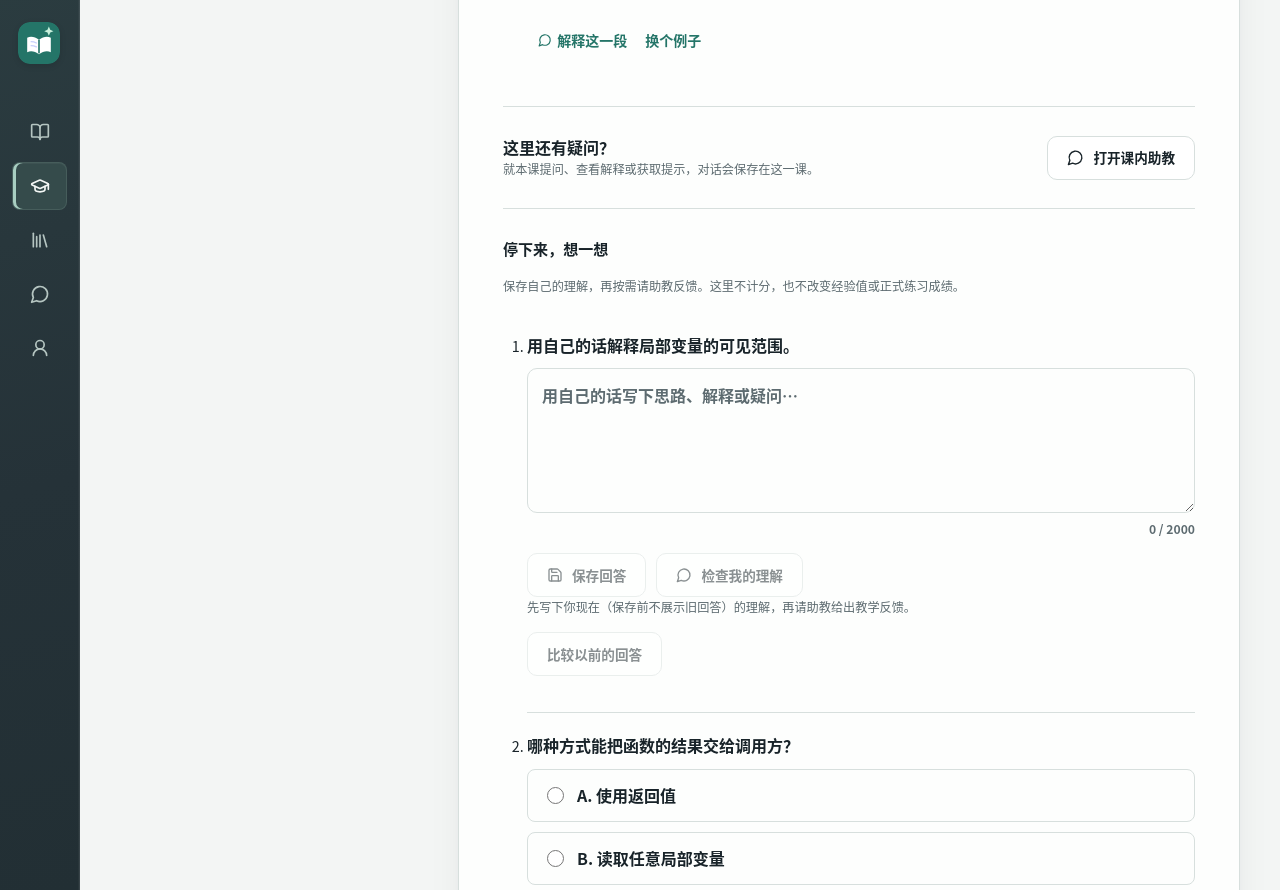
Test: saved self checks and teaching feedback › confirms a lost save response only from a new matching record
(page scrolled)
Type "局部变量只在定义它的函数里可见。" into the text box named "填写你的理解".
click(861, 441); type("局部变量只在定义它的函数里可见。")  # box [527, 368, 1195, 513]
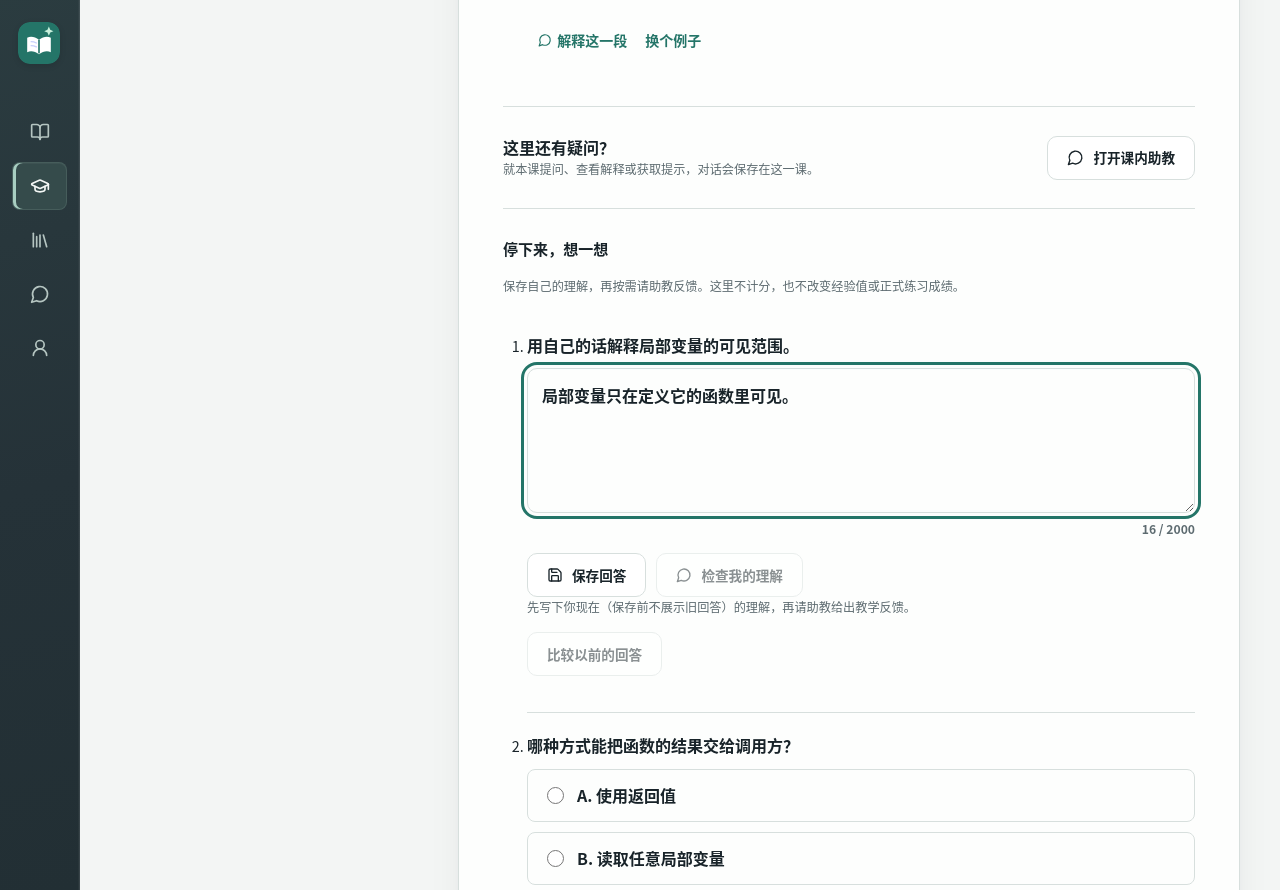
Click the button "保存回答".
click(587, 576)  # box [527, 554, 646, 598]
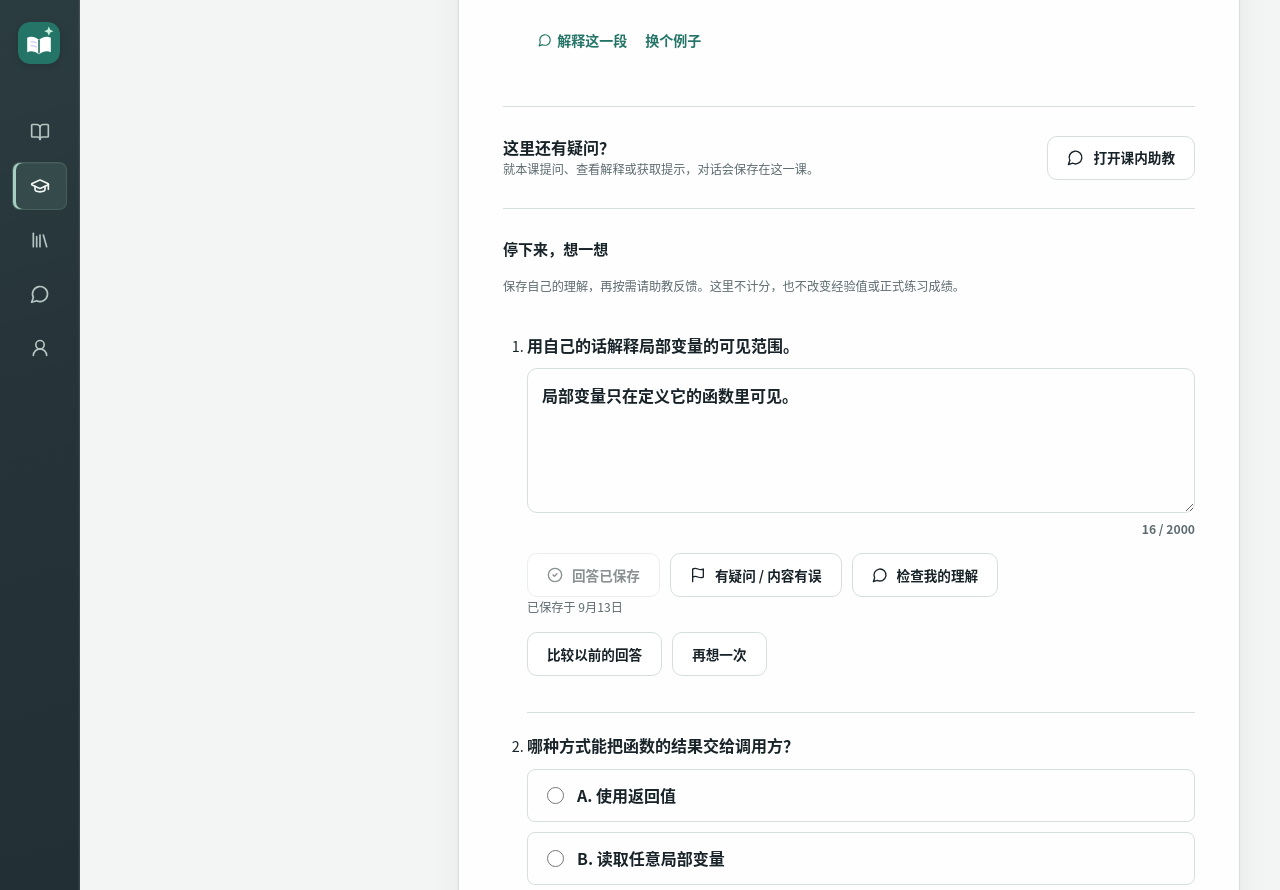
Now the button "回答已保存" is disabled, box [527, 554, 660, 598]
